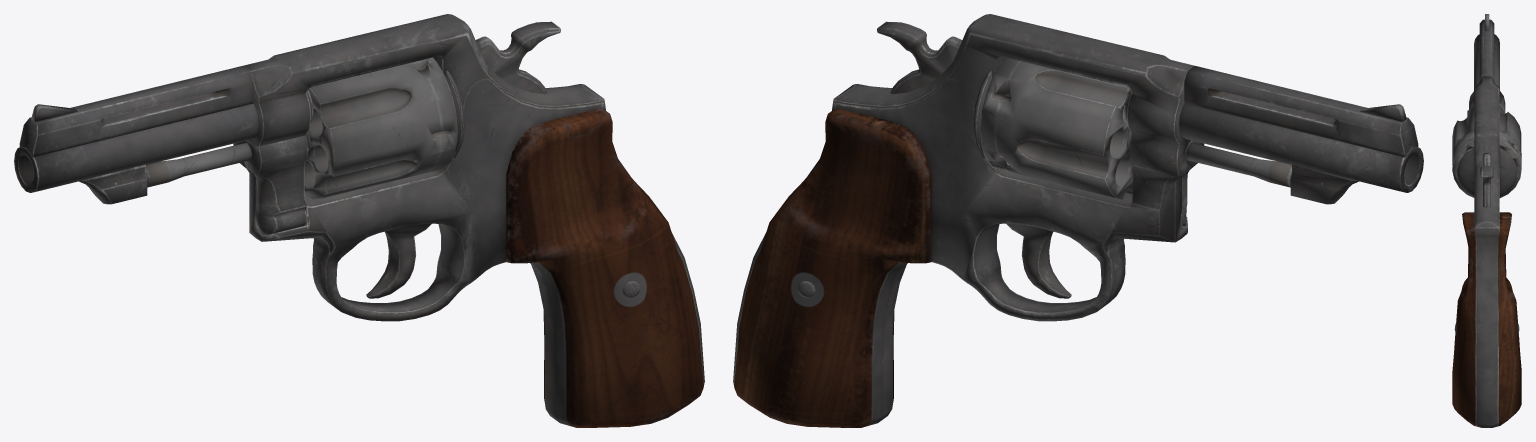
The picture shows the model from 3 angles, left to right: view 1: azimuth 30°, elevation 25°; view 2: azimuth 150°, elevation 25°; view 3: azimuth 270°, elevation 25°; orthographic projection. The views are drawn at different scales.
Visible parts, largest first — view 1: HM_revolver_1; view 2: HM_revolver_1; view 3: HM_revolver_1.
Part boxes in pixels (x1,y1,x2,y2): HM_revolver_1: (14, 14, 704, 427); HM_revolver_1: (733, 14, 1423, 427); HM_revolver_1: (1452, 14, 1521, 427).
Size of the model in its own units: 2 by 1.26 by 0.3291.
Materials: 1 (1 with a texture image).
